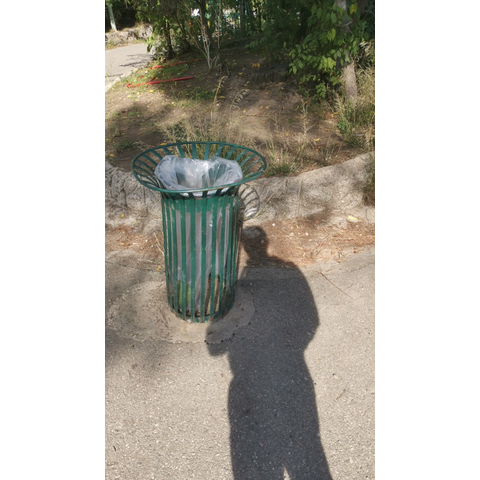poubelle: (127, 136, 270, 323)
